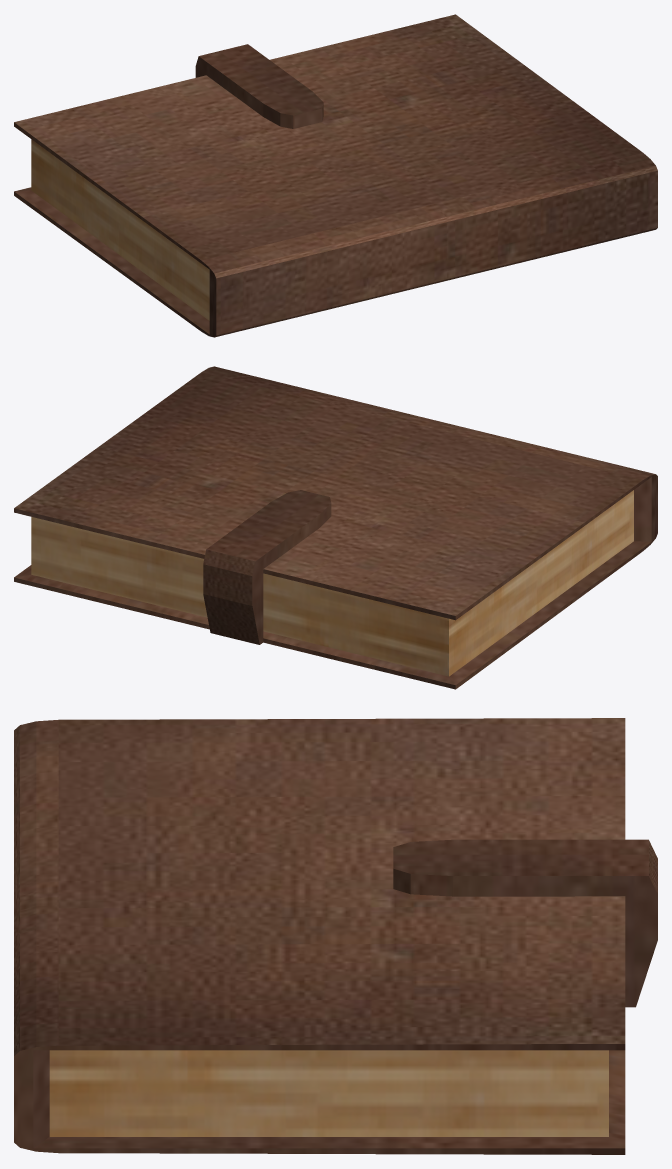
The model's file is journal.fbx.
3 renders of one model, top to bottom at view 1: azimuth 30°, elevation 25°; view 2: azimuth 150°, elevation 25°; view 3: azimuth 270°, elevation 25°, orthographic. The views are drawn at different scales.
Parts seen in each view (by area): view 1: journal; view 2: journal; view 3: journal.
Part boxes in pixels (x1,y1,x2,y2): journal: [14, 14, 657, 337]; journal: [14, 366, 657, 689]; journal: [14, 718, 657, 1154].
Bounding box in the file's own units: 114 × 21.43 × 95.26.
